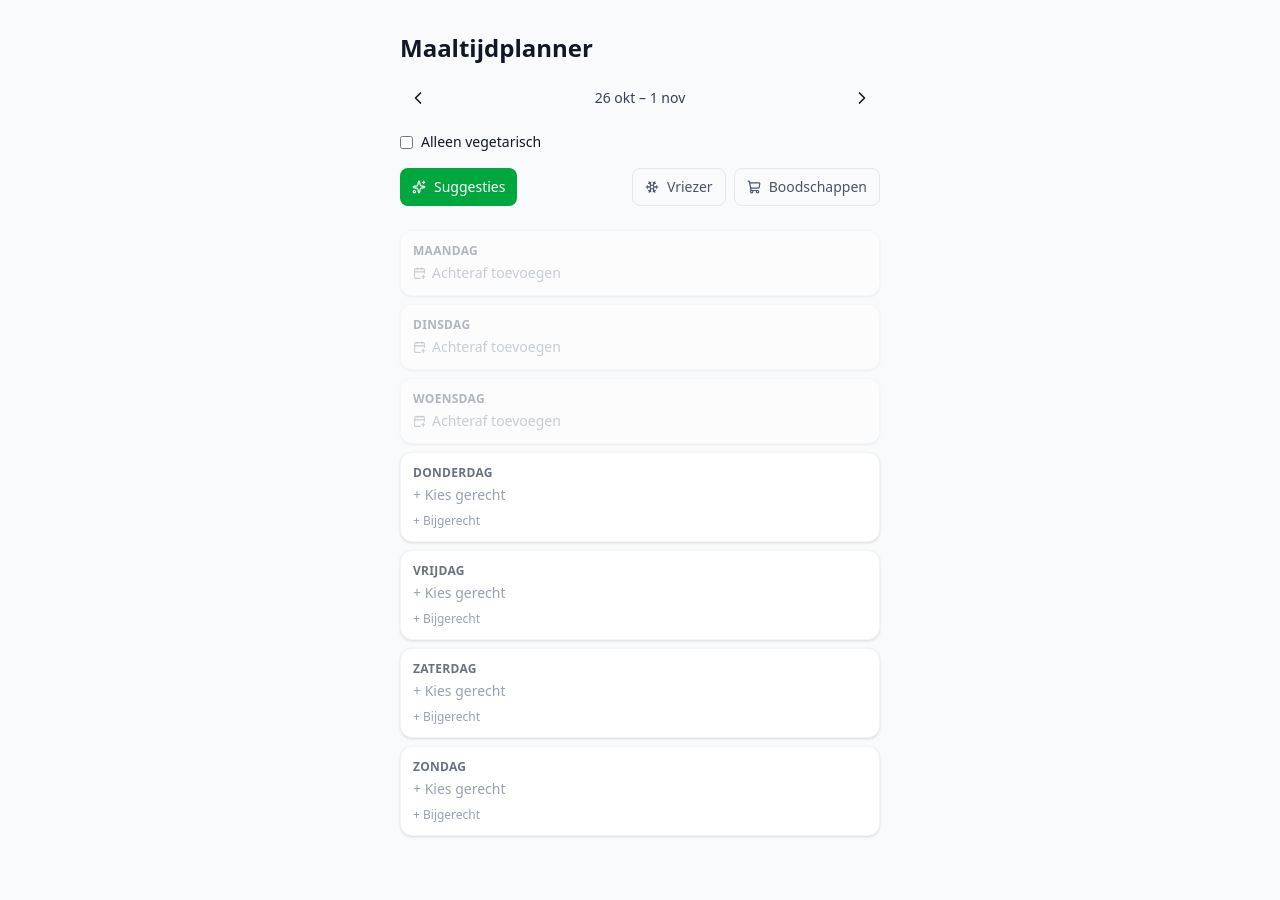
Test: Planner grocery share button › falls back to clipboard and confirms when navigator.share is unavailable
Expected: the heading "Maaltijdplanner" is shown, [400,32,593,64]
Click the button "Boodschappen": (807, 187) [734,168,880,206]
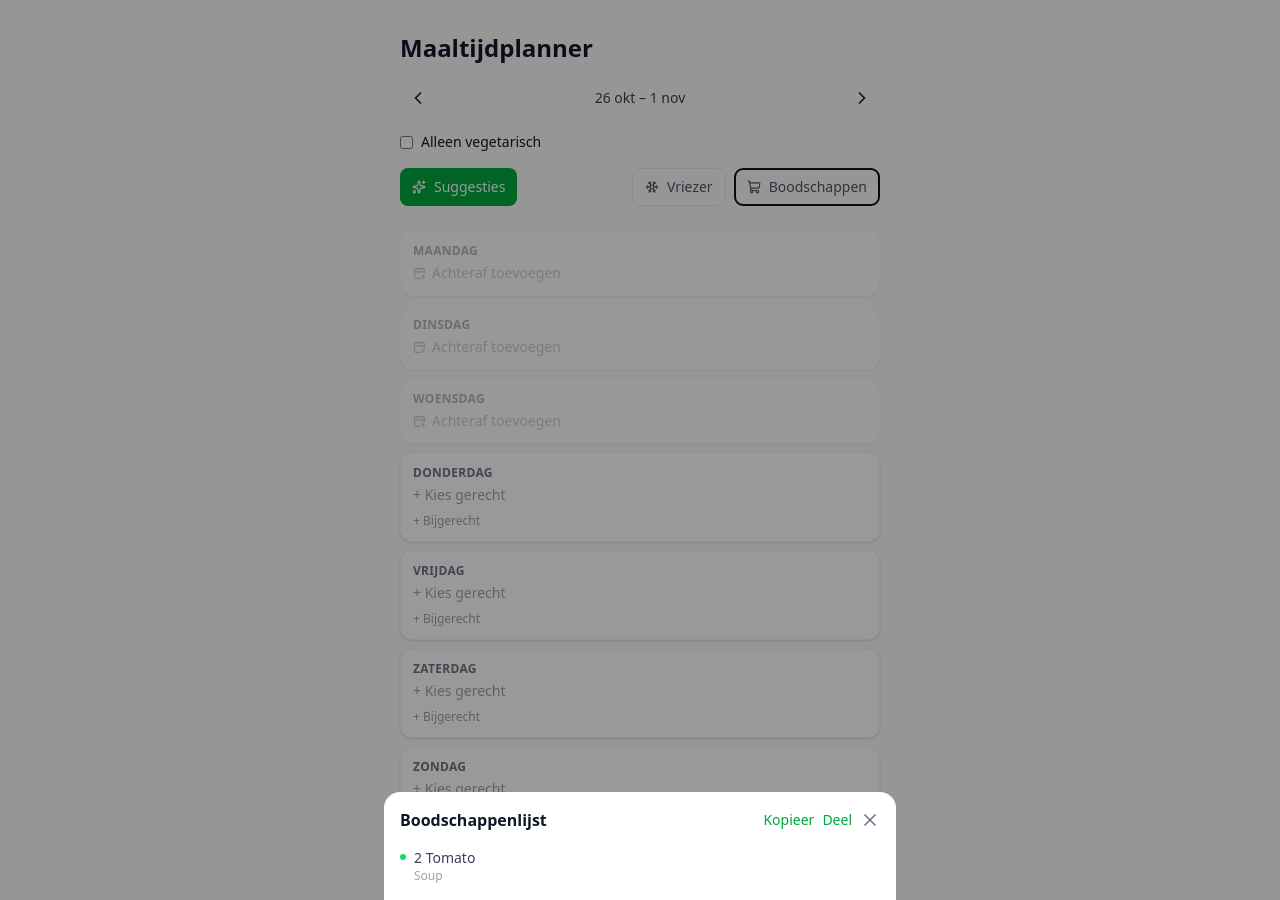
Expected: the heading "Boodschappenlijst" is shown, [400,808,547,832]
Click the button "Deel": (837, 820) [822,810,852,830]
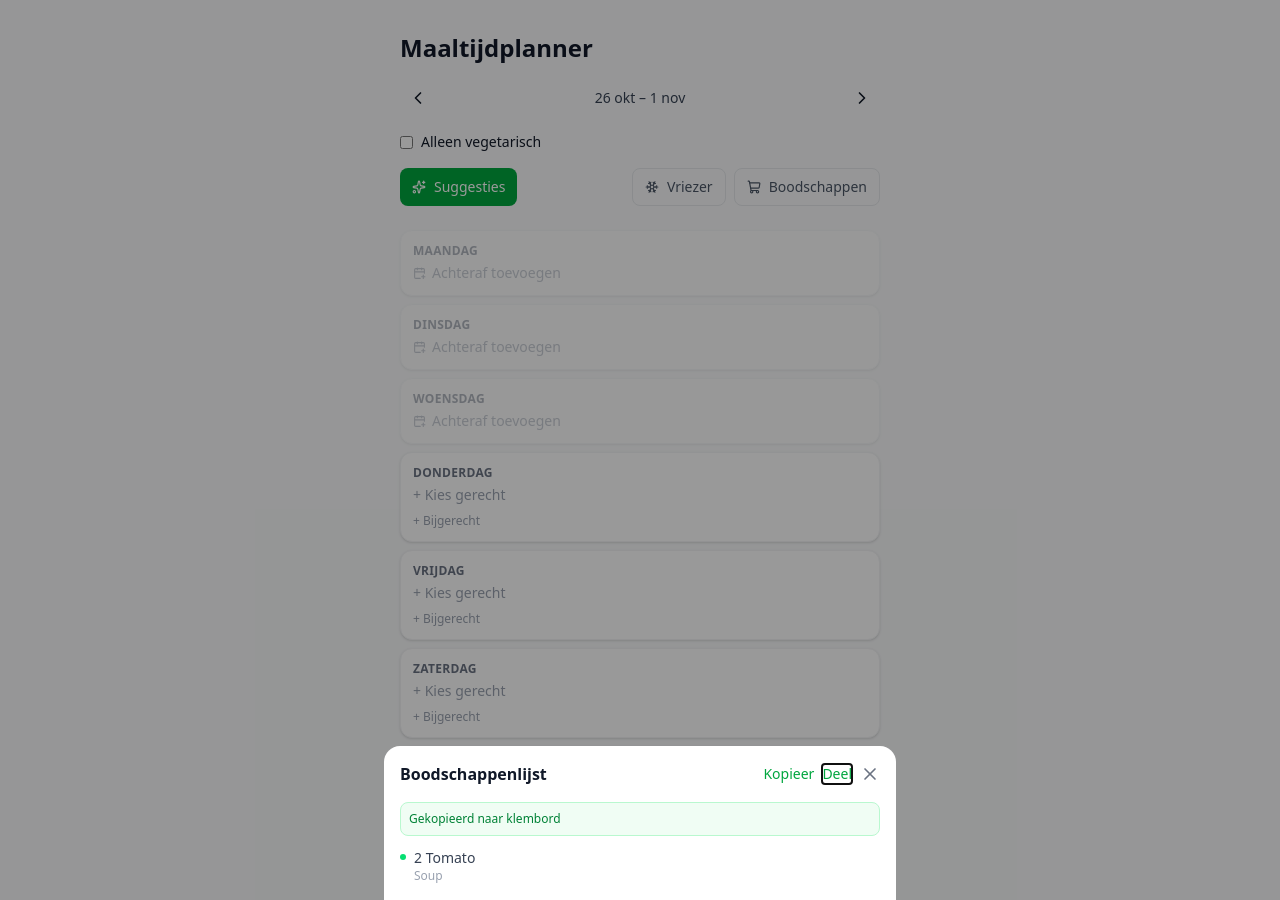
Expected: the text "Gekopieerd naar klembord" is shown, [400,802,880,836]
